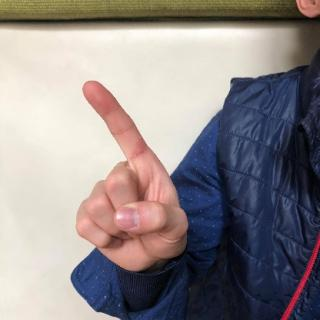BAA: (72, 73, 195, 274)
